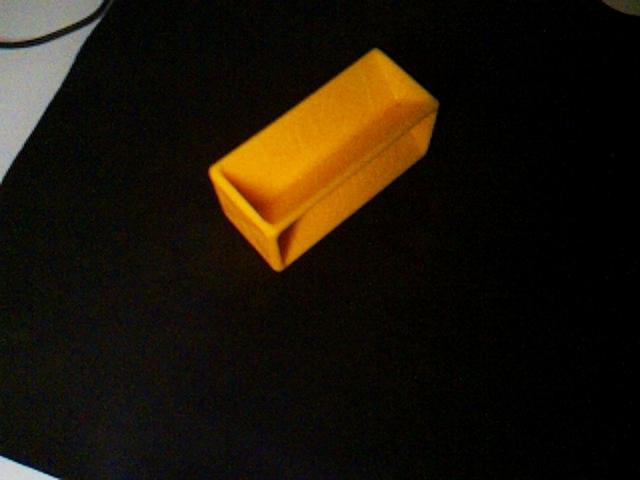yellow: (207, 46, 441, 273)
